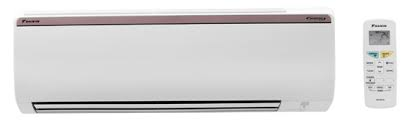ac: (8, 8, 339, 119)
